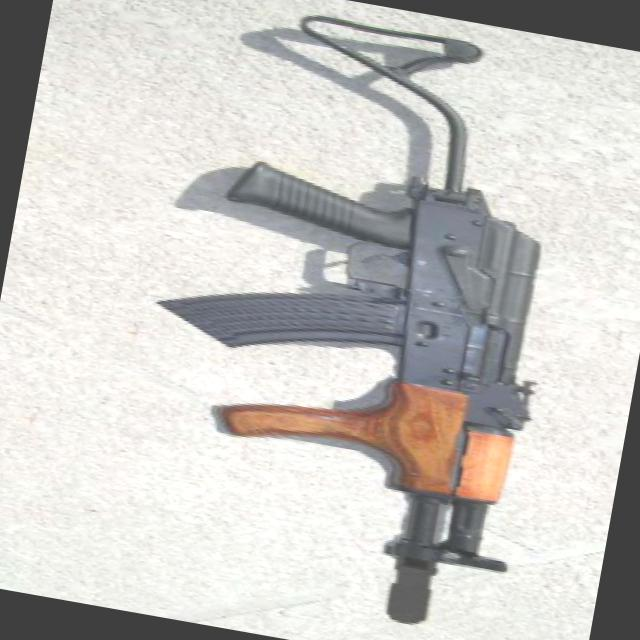long weapon: (129, 0, 599, 639)
